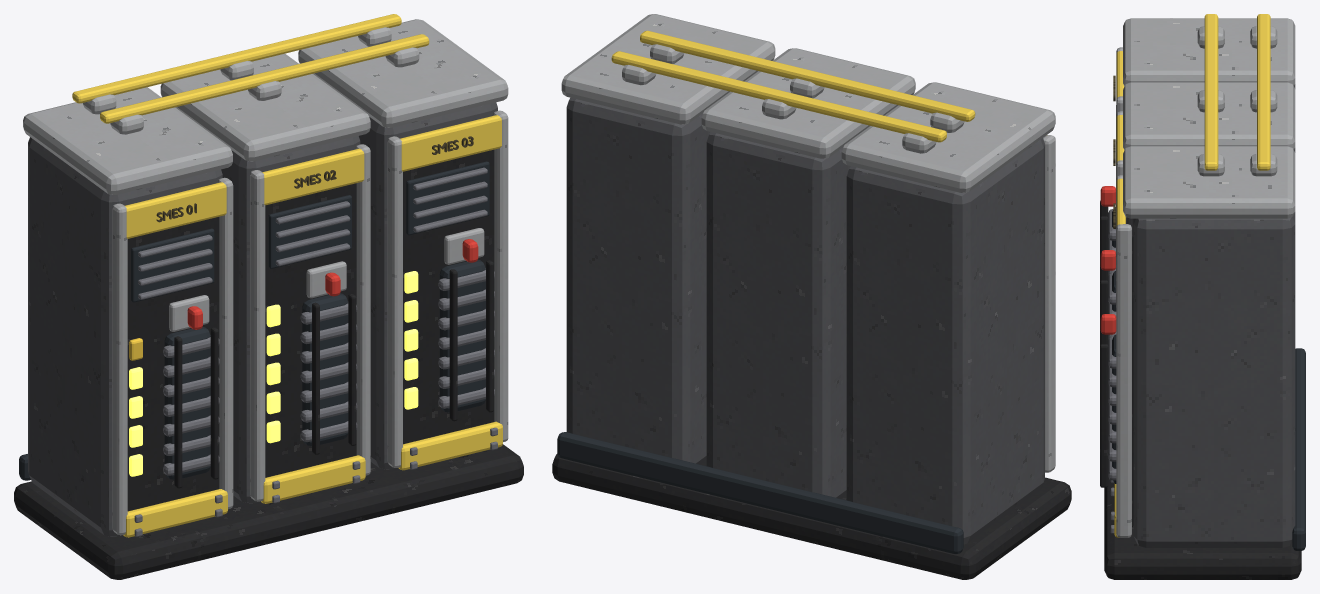
Rendered from decor_eng_smes_bank.glb.
The picture shows the model from 3 angles, left to right: view 1: azimuth 30°, elevation 25°; view 2: azimuth 150°, elevation 25°; view 3: azimuth 270°, elevation 25°; orthographic projection. The views are drawn at different scales.
Parts seen in each view (by area): view 1: DEC_EngSmesBank__Cabinet_1, DEC_EngSmesBank__Common_Plinth, DEC_EngSmesBank__Cabinet_Roof_1, DEC_EngSmesBank__Cabinet_Roof_3, DEC_EngSmesBank__Cabinet_Roof_2, DEC_EngSmesBank__Front_Recess_1, DEC_EngSmesBank__Front_Recess_2, DEC_EngSmesBank__Front_Recess_3, DEC_EngSmesBank__Cabinet_3, DEC_EngSmesBank__Cabinet_2, DEC_EngSmesBank__Door_Jamb_1_-1, DEC_EngSmesBank__Door_Jamb_3_-1 (+27 smaller); view 2: DEC_EngSmesBank__Cabinet_1, DEC_EngSmesBank__Cabinet_2, DEC_EngSmesBank__Cabinet_3, DEC_EngSmesBank__Common_Plinth, DEC_EngSmesBank__Cabinet_Roof_1, DEC_EngSmesBank__Rear_Cable_Trunk, DEC_EngSmesBank__Cabinet_Roof_3, DEC_EngSmesBank__Cabinet_Roof_2, DEC_EngSmesBank__Roof_Busbar_0.29, DEC_EngSmesBank__Roof_Busbar_0.04, DEC_EngSmesBank__Door_Jamb_1_-1; view 3: DEC_EngSmesBank__Cabinet_3, DEC_EngSmesBank__Cabinet_Roof_3, DEC_EngSmesBank__Cabinet_Roof_1, DEC_EngSmesBank__Cabinet_Roof_2, DEC_EngSmesBank__Common_Plinth, DEC_EngSmesBank__Door_Jamb_3_1, DEC_EngSmesBank__Roof_Busbar_0.04, DEC_EngSmesBank__Rear_Cable_Trunk, DEC_EngSmesBank__Roof_Busbar_0.29, DEC_EngSmesBank__Coil_Guard_3_1, DEC_EngSmesBank__Front_Recess_3, DEC_EngSmesBank__Roof_Insulator_3_0.04 (+14 smaller).
Boxes of the visible parts, x1,y1,x2,y2 form: DEC_EngSmesBank__Cabinet_1: [28, 137, 222, 536]; DEC_EngSmesBank__Common_Plinth: [14, 444, 523, 579]; DEC_EngSmesBank__Cabinet_Roof_1: [23, 87, 232, 194]; DEC_EngSmesBank__Cabinet_Roof_3: [298, 19, 508, 127]; DEC_EngSmesBank__Cabinet_Roof_2: [160, 53, 370, 161]; DEC_EngSmesBank__Front_Recess_1: [127, 217, 219, 511]; DEC_EngSmesBank__Front_Recess_2: [265, 183, 356, 477]; DEC_EngSmesBank__Front_Recess_3: [403, 149, 494, 444]; DEC_EngSmesBank__Cabinet_3: [359, 102, 497, 469]; DEC_EngSmesBank__Cabinet_2: [221, 136, 360, 503]; DEC_EngSmesBank__Door_Jamb_1_-1: [112, 203, 127, 535]; DEC_EngSmesBank__Door_Jamb_3_-1: [387, 136, 402, 467]; DEC_EngSmesBank__Cabinet_1: [846, 138, 1044, 544]; DEC_EngSmesBank__Cabinet_2: [706, 132, 850, 498]; DEC_EngSmesBank__Cabinet_3: [566, 97, 709, 464]; DEC_EngSmesBank__Common_Plinth: [552, 454, 1071, 579]; DEC_EngSmesBank__Cabinet_Roof_1: [841, 82, 1055, 192]; DEC_EngSmesBank__Rear_Cable_Trunk: [557, 432, 963, 554]; DEC_EngSmesBank__Cabinet_Roof_3: [561, 14, 775, 124]; DEC_EngSmesBank__Cabinet_Roof_2: [701, 48, 915, 158]; DEC_EngSmesBank__Roof_Busbar_0.29: [611, 51, 946, 142]; DEC_EngSmesBank__Roof_Busbar_0.04: [640, 30, 975, 121]; DEC_EngSmesBank__Door_Jamb_1_-1: [1043, 135, 1055, 472]; DEC_EngSmesBank__Cabinet_3: [1133, 212, 1295, 547]; DEC_EngSmesBank__Cabinet_Roof_3: [1123, 146, 1295, 218]; DEC_EngSmesBank__Cabinet_Roof_1: [1123, 18, 1295, 86]; DEC_EngSmesBank__Cabinet_Roof_2: [1123, 82, 1295, 150]; DEC_EngSmesBank__Common_Plinth: [1104, 477, 1301, 579]; DEC_EngSmesBank__Door_Jamb_3_1: [1116, 224, 1131, 537]; DEC_EngSmesBank__Roof_Busbar_0.04: [1204, 14, 1218, 170]; DEC_EngSmesBank__Rear_Cable_Trunk: [1292, 348, 1305, 550]; DEC_EngSmesBank__Roof_Busbar_0.29: [1257, 14, 1270, 170]; DEC_EngSmesBank__Coil_Guard_3_1: [1100, 344, 1108, 487]; DEC_EngSmesBank__Front_Recess_3: [1126, 217, 1133, 526]; DEC_EngSmesBank__Roof_Insulator_3_0.04: [1197, 154, 1224, 176].
Bounding box in the file's own units: 2.17 × 2.1 × 0.9805.
Materials: 10 (4 with a texture image).
